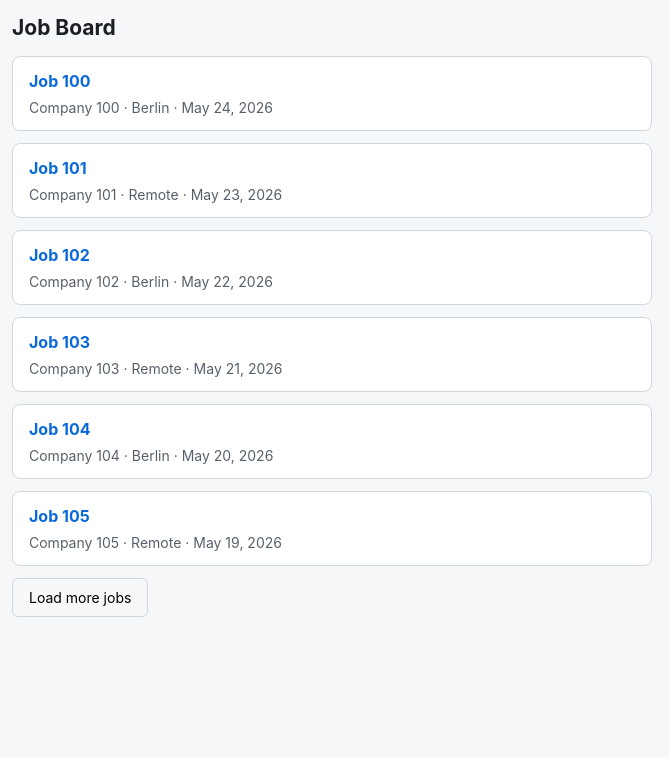
Test case: removes the button after the last (short) page
This screenshot has width=669, height=757.
expect the link "Job 105" is shown: met, box top-left (29, 506), bottom-right (90, 526)
Click the button "Load more jobs".
click(80, 597)  # box top-left (12, 578), bottom-right (148, 616)
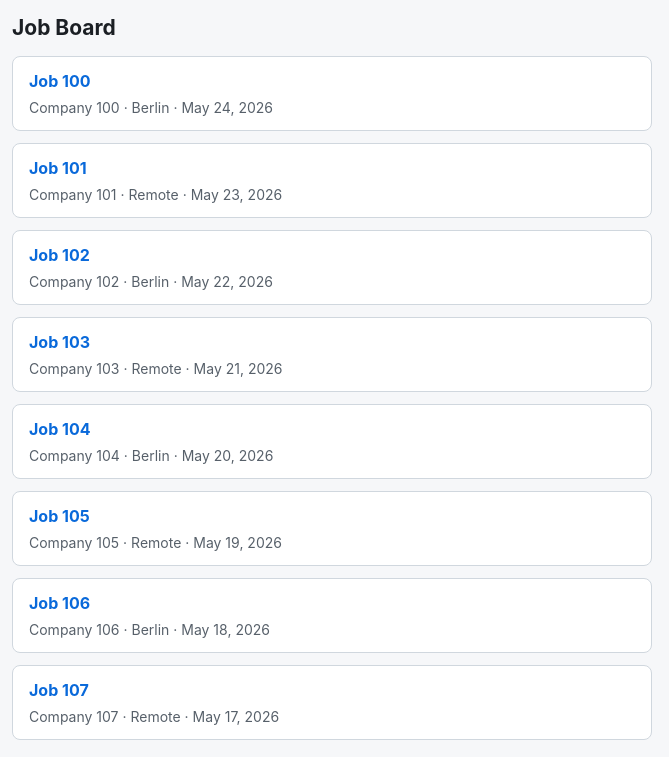
expect the link "Job 107" is shown: met, box top-left (29, 680), bottom-right (89, 700)
expect the number of links is 8: met
expect the button "Load more jobs" is gone: met
